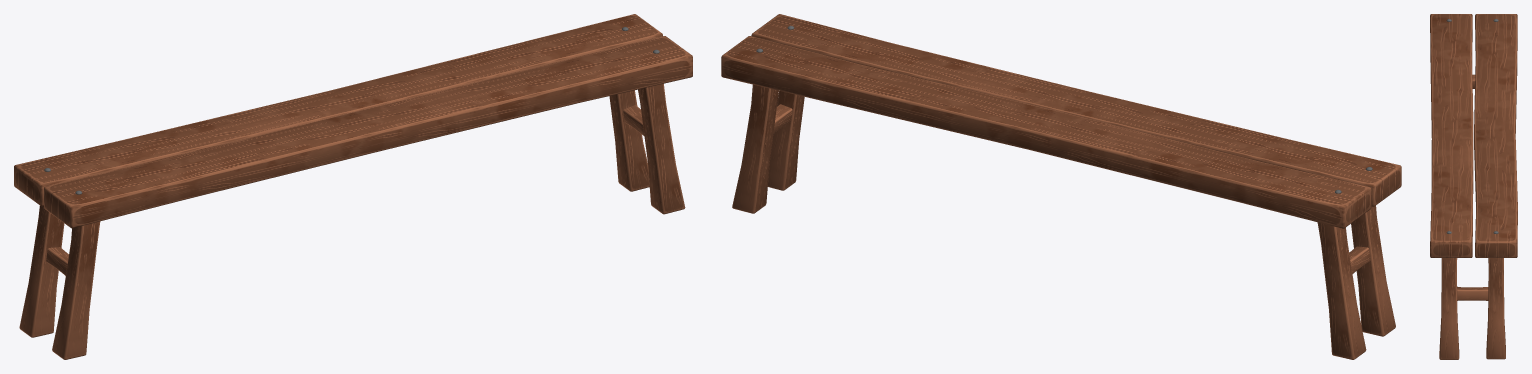
The model's file is bench_1.fbx.
3 renders of one model, left to right at view 1: azimuth 30°, elevation 25°; view 2: azimuth 150°, elevation 25°; view 3: azimuth 270°, elevation 25°, orthographic. The views are drawn at different scales.
Parts seen in each view (by area): view 1: bench_1; view 2: bench_1; view 3: bench_1.
Boxes of the visible parts, x1,y1,x2,y2 form: bench_1: [14, 14, 692, 359]; bench_1: [721, 14, 1401, 359]; bench_1: [1430, 14, 1517, 359].
Bounding box in the file's own units: 13.05 × 3.21 × 2.11.
